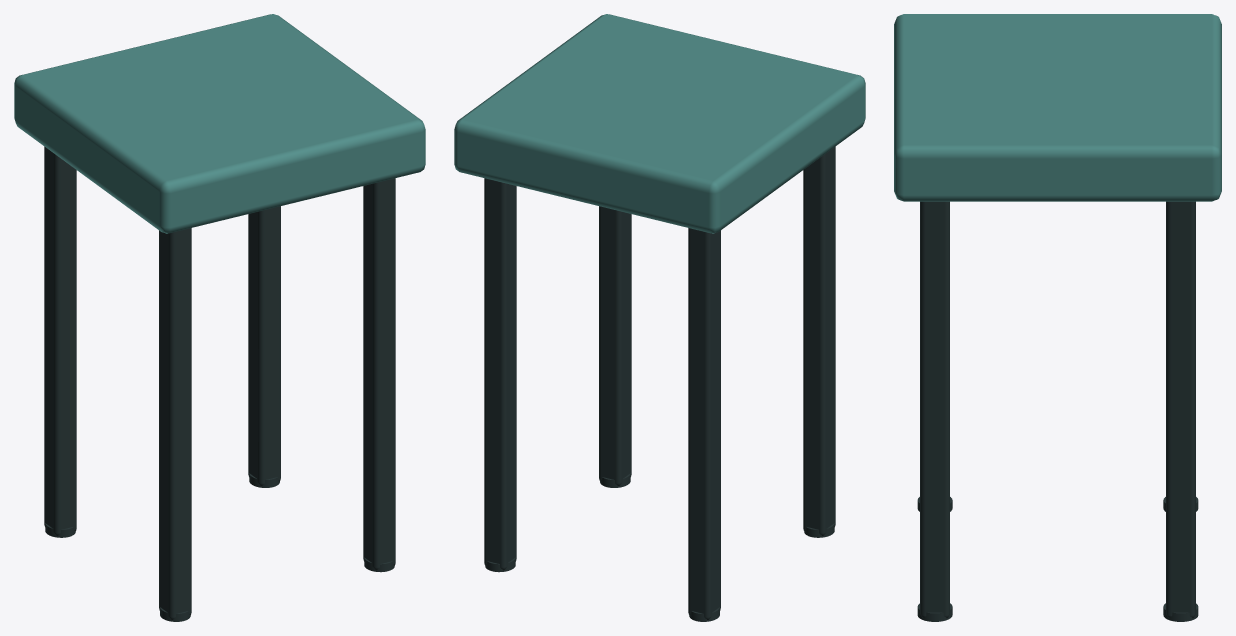
Rendered from wp-tabouret-de-laboratoire.glb.
The picture shows the model from 3 angles, left to right: view 1: azimuth 30°, elevation 25°; view 2: azimuth 150°, elevation 25°; view 3: azimuth 270°, elevation 25°; orthographic projection. The views are drawn at different scales.
Visible parts, largest first — view 1: wp-tabouret-de-laboratoire; view 2: wp-tabouret-de-laboratoire; view 3: wp-tabouret-de-laboratoire.
Boxes of the visible parts, x1,y1,x2,y2 form: wp-tabouret-de-laboratoire: [14, 14, 425, 621]; wp-tabouret-de-laboratoire: [454, 14, 865, 621]; wp-tabouret-de-laboratoire: [894, 14, 1221, 621].
Bounding box in the file's own units: 0.4 × 0.65 × 0.4.
